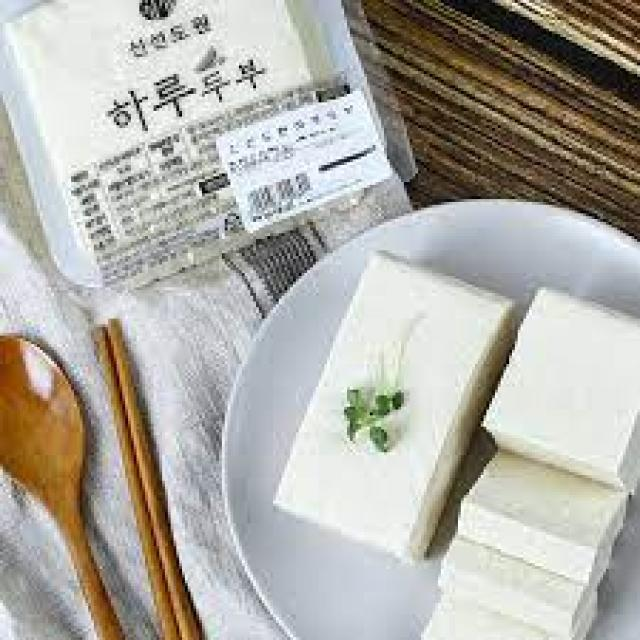tofu: (305, 241, 640, 639)
